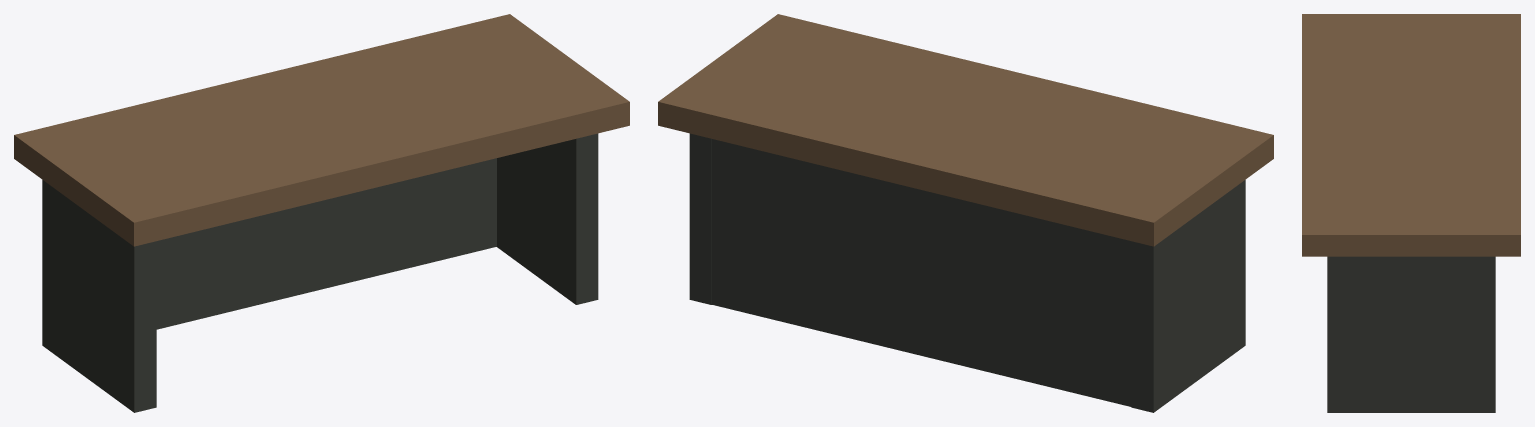
File: Mesa.fbx
3 renders of one model, left to right at view 1: azimuth 30°, elevation 25°; view 2: azimuth 150°, elevation 25°; view 3: azimuth 270°, elevation 25°, orthographic. The views are drawn at different scales.
Parts seen in each view (by area): view 1: Cube; view 2: Cube; view 3: Cube.
Boxes of the visible parts, x1,y1,x2,y2 form: Cube: (14, 14, 629, 412); Cube: (658, 14, 1273, 412); Cube: (1302, 14, 1520, 412).
Bounding box in the file's own units: 1837 × 721 × 770.
